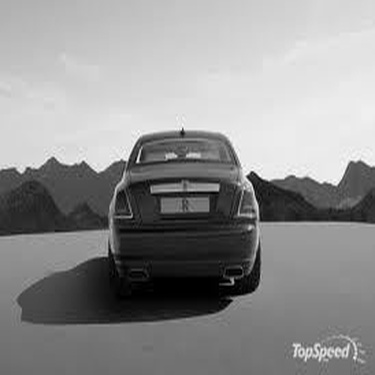car: (71, 108, 276, 302)
